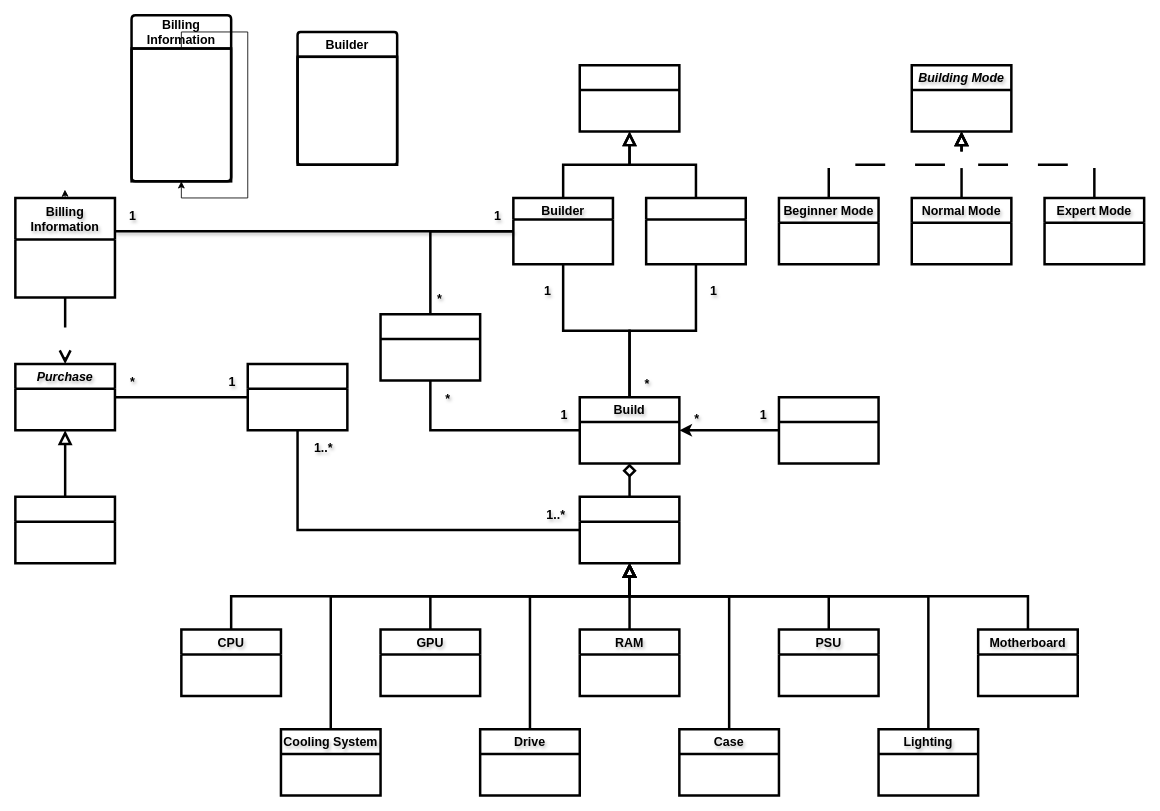
Some shapes in this 1160 by 811 pixel diagram are drawn without their labels. Here are the shapes that lost their labels. From the top down, the centre of each, then its label:
At (x=181, y=114): "+builder +name +surname +address +postal code +city +country".
At (x=347, y=110): "+id +username +password +email +billing info +build".
At (x=629, y=97): "User".
At (x=695, y=230): "Guest".
At (x=430, y=346): "Rating".
At (x=297, y=396): "Store".
At (x=828, y=429): "Wall of Builds".
At (x=65, y=529): "Credit".
At (x=629, y=529): "PC Part".
